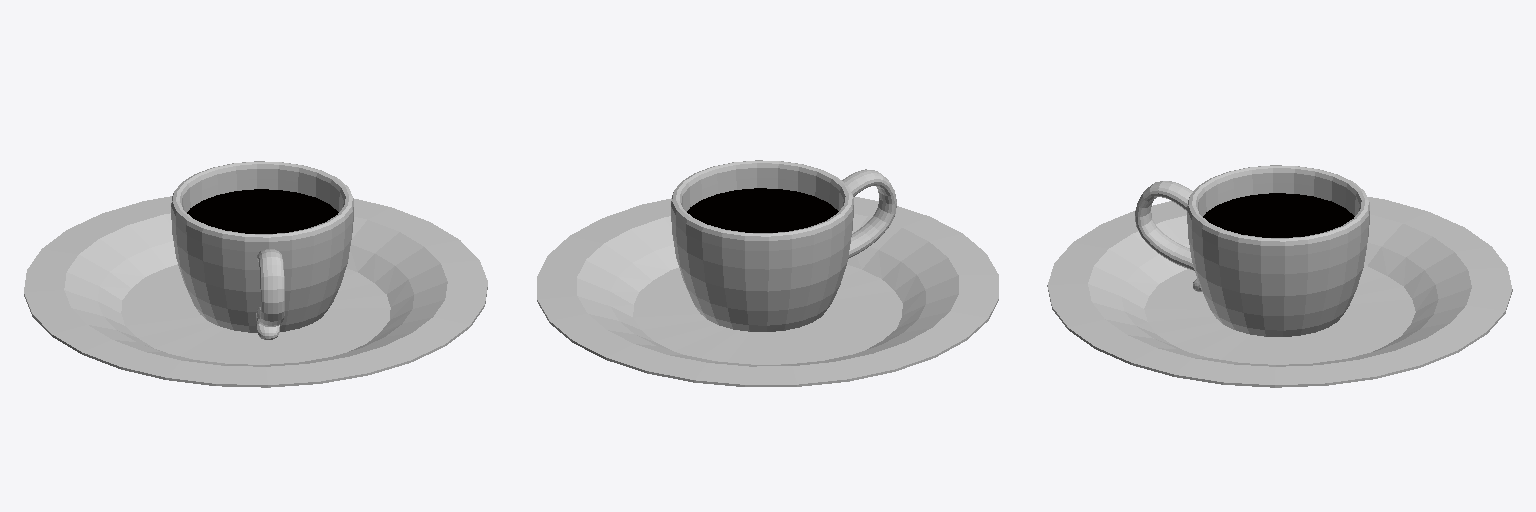
Rendered from cafe.obj.
3 renders of one model, left to right at view 1: azimuth 30°, elevation 25°; view 2: azimuth 150°, elevation 25°; view 3: azimuth 270°, elevation 25°, orthographic.
Parts seen in each view (by area): view 1: Dish, Cup_of_coffee; view 2: Dish, Cup_of_coffee; view 3: Dish, Cup_of_coffee.
Boxes of the visible parts, x1,y1,x2,y2 form: Dish: [24, 196, 487, 387]; Cup_of_coffee: [171, 161, 353, 339]; Dish: [537, 197, 998, 386]; Cup_of_coffee: [671, 160, 896, 331]; Dish: [1047, 197, 1512, 387]; Cup_of_coffee: [1135, 165, 1369, 336].
Size of the model in its own units: 4.28 by 1.15 by 4.28.